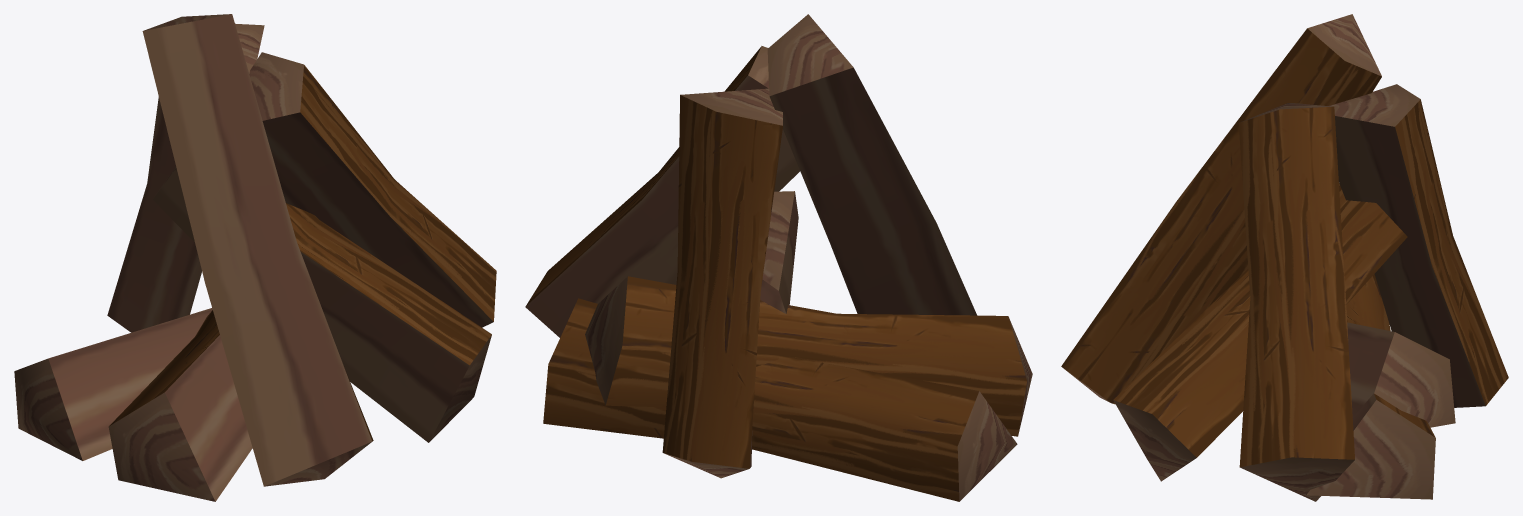
The model's file is SM_PROP_logpile_battle_02.fbx.
The picture shows the model from 3 angles, left to right: view 1: azimuth 30°, elevation 25°; view 2: azimuth 150°, elevation 25°; view 3: azimuth 270°, elevation 25°; orthographic projection. The views are drawn at different scales.
Visible parts, largest first — view 1: SM_PROP_logpile_battle_02; view 2: SM_PROP_logpile_battle_02; view 3: SM_PROP_logpile_battle_02.
Boxes of the visible parts, x1,y1,x2,y2 form: SM_PROP_logpile_battle_02: (14, 14, 496, 501); SM_PROP_logpile_battle_02: (525, 14, 1032, 501); SM_PROP_logpile_battle_02: (1061, 14, 1508, 501).
Size of the model in its own units: 38.2 by 32.9 by 33.78.
